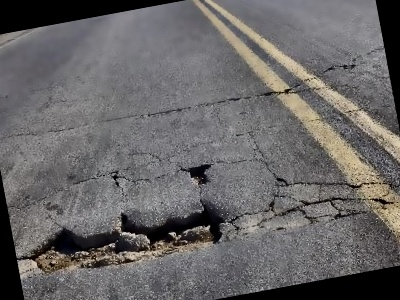pothole: (21, 191, 235, 282), (184, 160, 216, 188)
